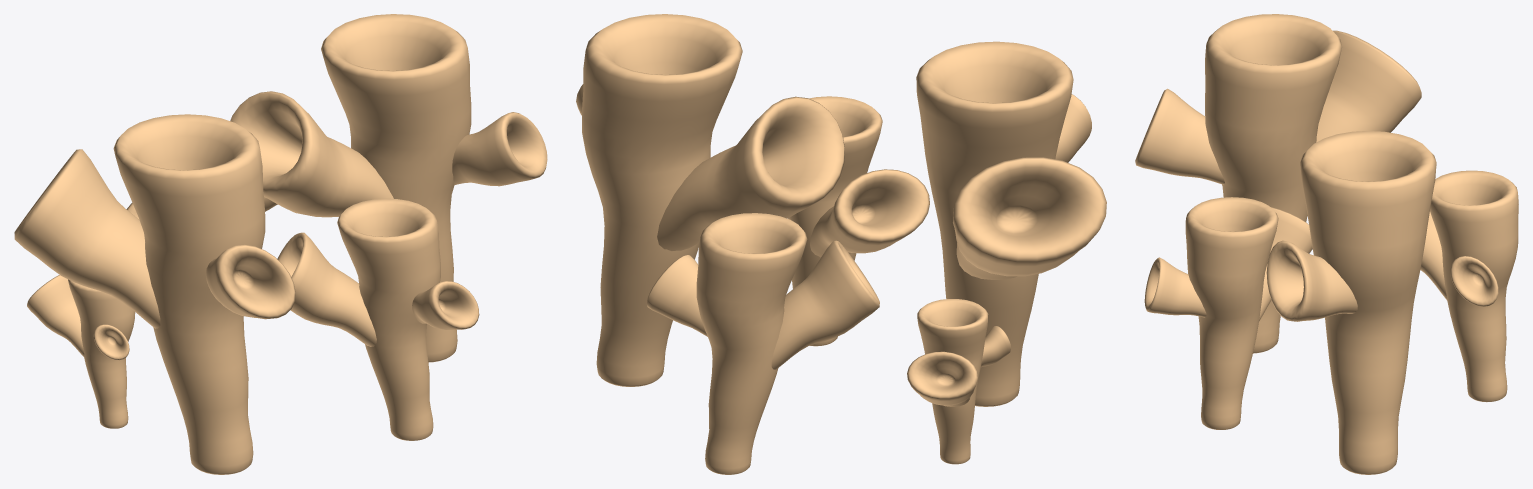
File: Coral_Group.fbx
3 renders of one model, left to right at view 1: azimuth 30°, elevation 25°; view 2: azimuth 150°, elevation 25°; view 3: azimuth 270°, elevation 25°, orthographic. The views are drawn at different scales.
Visible parts, largest first — view 1: Coral_Group; view 2: Coral_Group; view 3: Coral_Group.
Part boxes in pixels (x1,y1,x2,y2): Coral_Group: (14,14,547,474); Coral_Group: (576,14,1106,474); Coral_Group: (1135,14,1518,474).
Bounding box in the file's own units: 1.51 × 0.8989 × 1.06.
